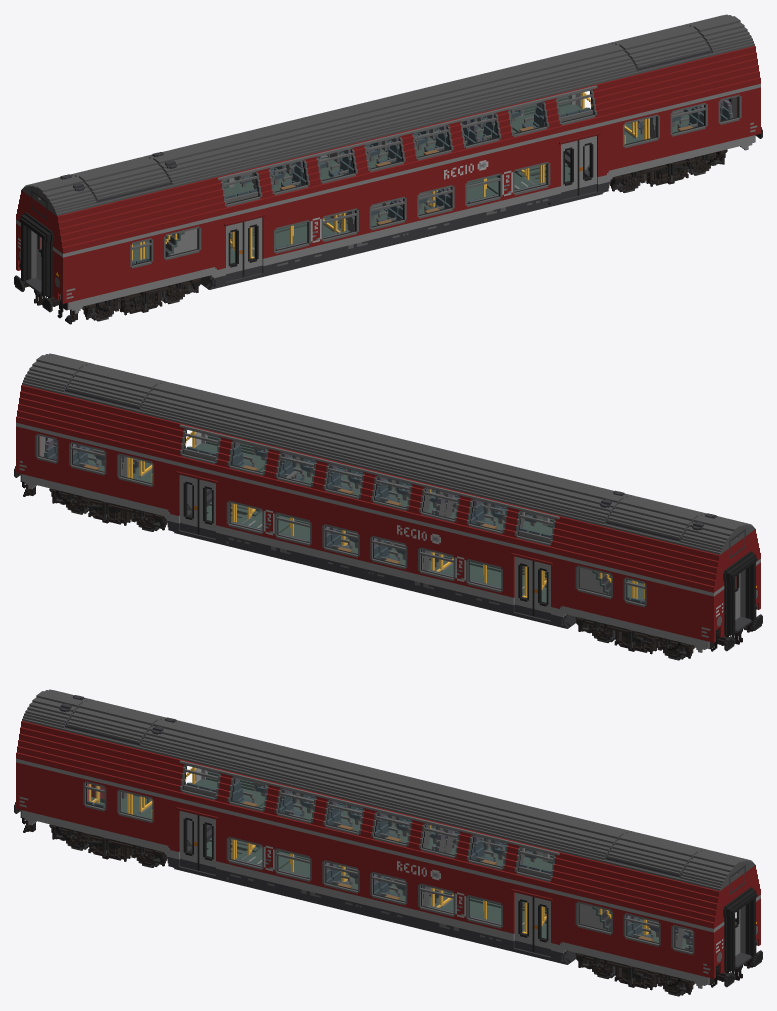
Rendered from dbuza.obj.
3 renders of one model, top to bottom at view 1: azimuth 30°, elevation 25°; view 2: azimuth 150°, elevation 25°; view 3: azimuth 330°, elevation 25°, orthographic.
Parts seen in each view (by area): view 1: FRAME, BOGEY_REAR, BOGEY_FRONT; view 2: FRAME, BOGEY_REAR, BOGEY_FRONT; view 3: FRAME, BOGEY_FRONT, BOGEY_REAR.
Part boxes in pixels (x1=…): FRAME: x1=14, y1=14, x2=762, y2=324; BOGEY_REAR: x1=609, y1=149, x2=727, y2=191; BOGEY_FRONT: x1=82, y1=278, x2=201, y2=319; FRAME: x1=14, y1=353, x2=762, y2=652; BOGEY_REAR: x1=49, y1=488, x2=167, y2=530; BOGEY_FRONT: x1=575, y1=617, x2=694, y2=658; FRAME: x1=14, y1=689, x2=762, y2=988; BOGEY_FRONT: x1=49, y1=824, x2=167, y2=866; BOGEY_REAR: x1=575, y1=953, x2=694, y2=994.
Size of the model in its own units: 25.12 by 4.56 by 3.
1 material, 1 textured.
